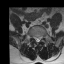CCS_normal: (37, 34, 38, 43)
LFS_normal: (40, 33, 43, 41)
LLS_normal: (38, 35, 40, 42)
RFS_normal: (32, 34, 34, 40)
RLS_normal: (34, 35, 37, 42)
